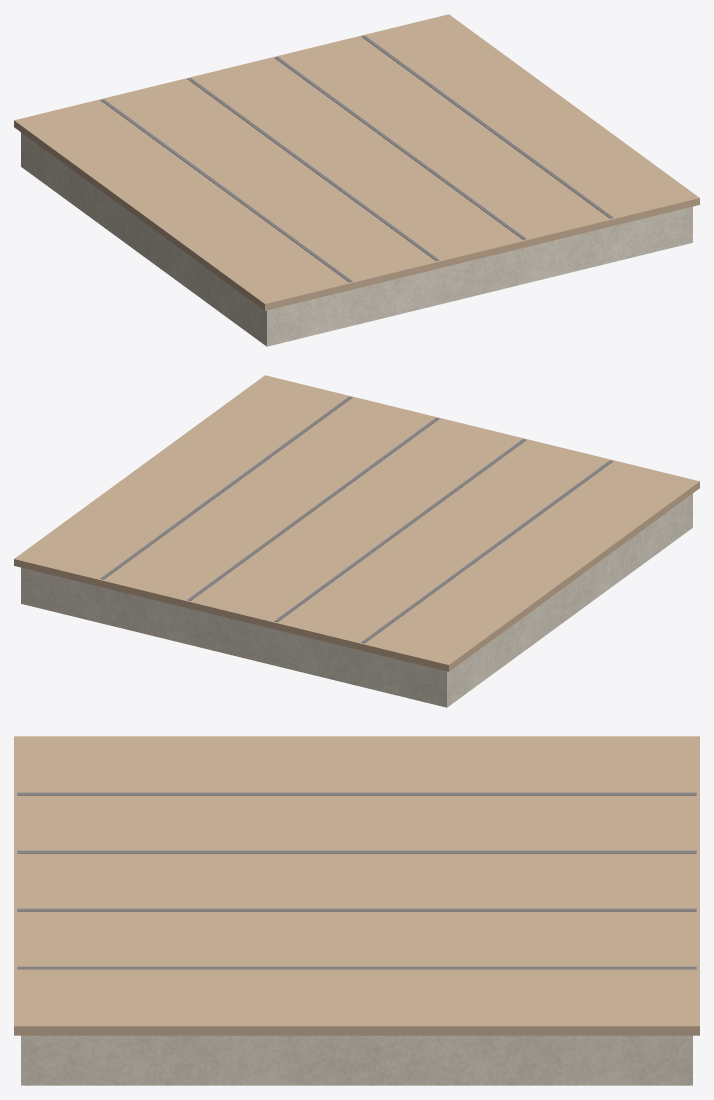
Rendered from terrace_tile.glb.
The picture shows the model from 3 angles, top to bottom: view 1: azimuth 30°, elevation 25°; view 2: azimuth 150°, elevation 25°; view 3: azimuth 270°, elevation 25°; orthographic projection. The views are drawn at different scales.
Parts seen in each view (by area): view 1: terrace_tile_deck, terrace_tile_plaster, terrace_tile_dark; view 2: terrace_tile_deck, terrace_tile_plaster, terrace_tile_dark; view 3: terrace_tile_deck, terrace_tile_plaster, terrace_tile_dark.
Part boxes in pixels (x1,y1,x2,y2): terrace_tile_deck: (14, 14, 699, 310); terrace_tile_plaster: (21, 132, 692, 346); terrace_tile_dark: (100, 35, 613, 282); terrace_tile_deck: (14, 375, 699, 671); terrace_tile_plaster: (21, 493, 692, 707); terrace_tile_dark: (100, 396, 613, 643); terrace_tile_deck: (14, 736, 699, 1035); terrace_tile_plaster: (21, 1035, 692, 1085); terrace_tile_dark: (17, 792, 696, 969).
Size of the model in its own units: 2 by 0.202 by 2.
3 materials, 1 textured.
